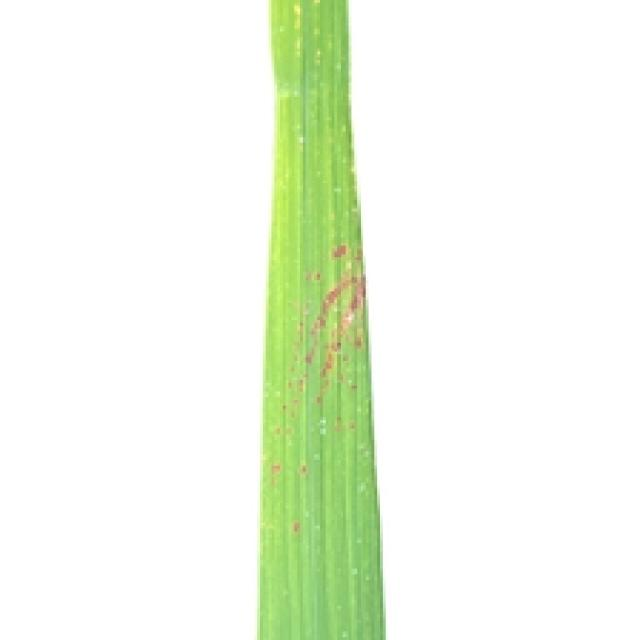Rice___Brown_Spot: (255, 0, 388, 637)
